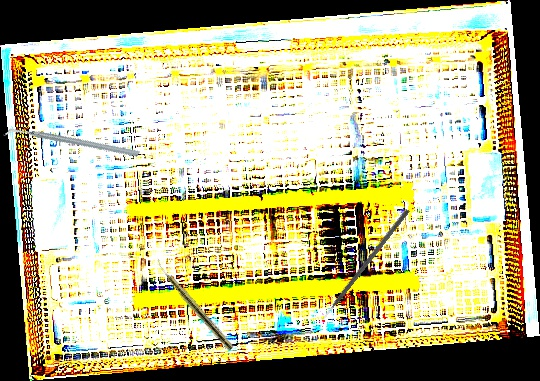Chopper: (2, 82, 141, 205)
Handpiece: (151, 257, 236, 352)
Hook Surgical: (317, 207, 410, 325)
